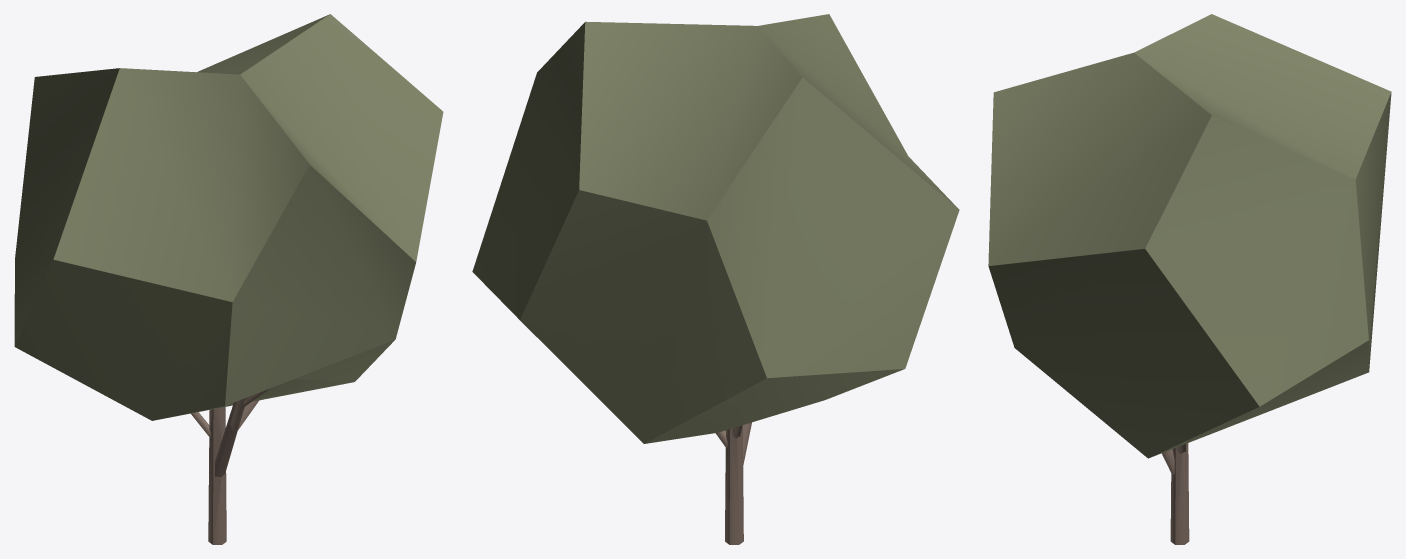
Rendered from TREE1.fbx.
3 views of the same model, side by side, from view 1: azimuth 30°, elevation 25°; view 2: azimuth 150°, elevation 25°; view 3: azimuth 270°, elevation 25° (orthographic). The views are drawn at different scales.
Visible parts, largest first — view 1: Model; view 2: Model; view 3: Model.
Part boxes in pixels (x1,y1,x2,y2): Model: (14,14,443,544); Model: (472,14,959,544); Model: (988,14,1391,544).
Bounding box in the file's own units: 310 × 353 × 264.
